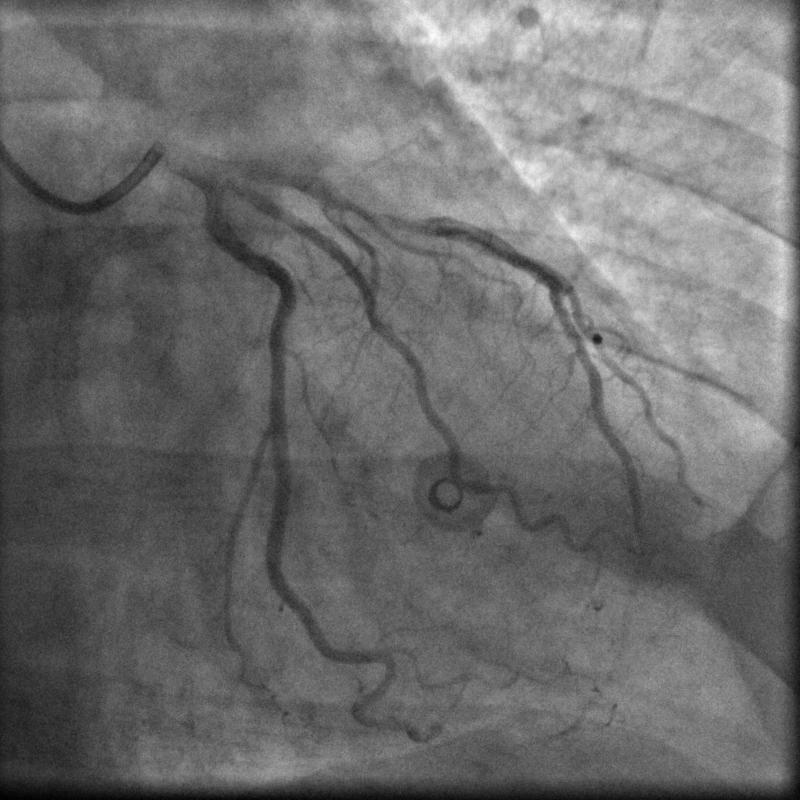Stenosis: (369, 204, 429, 236)
